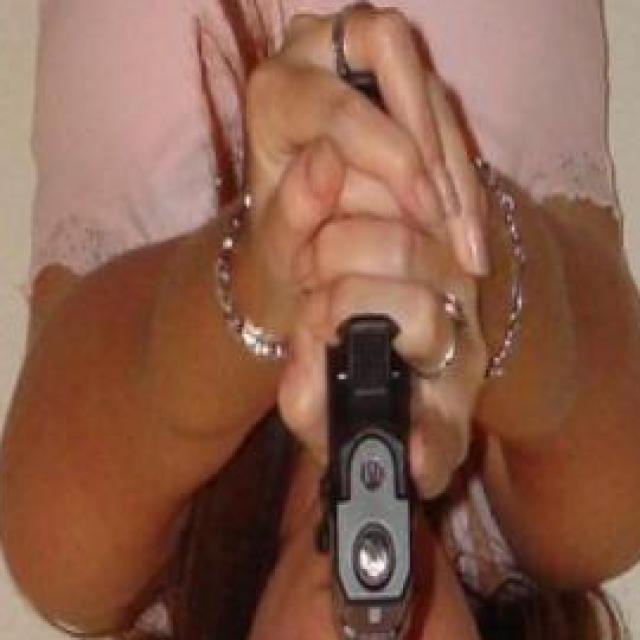pistol: (313, 303, 417, 640)
